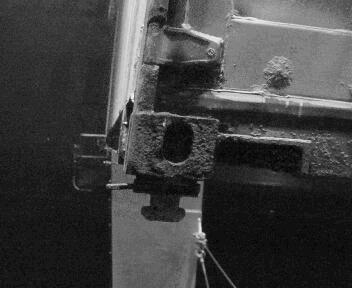twist_lock_1: (126, 172, 204, 226)
